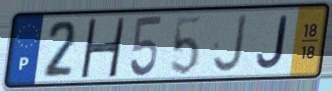2: (41, 19, 78, 79)
5: (128, 14, 164, 79), (168, 14, 203, 76)
H: (78, 17, 128, 79)
J: (210, 12, 249, 75), (254, 13, 290, 71)
